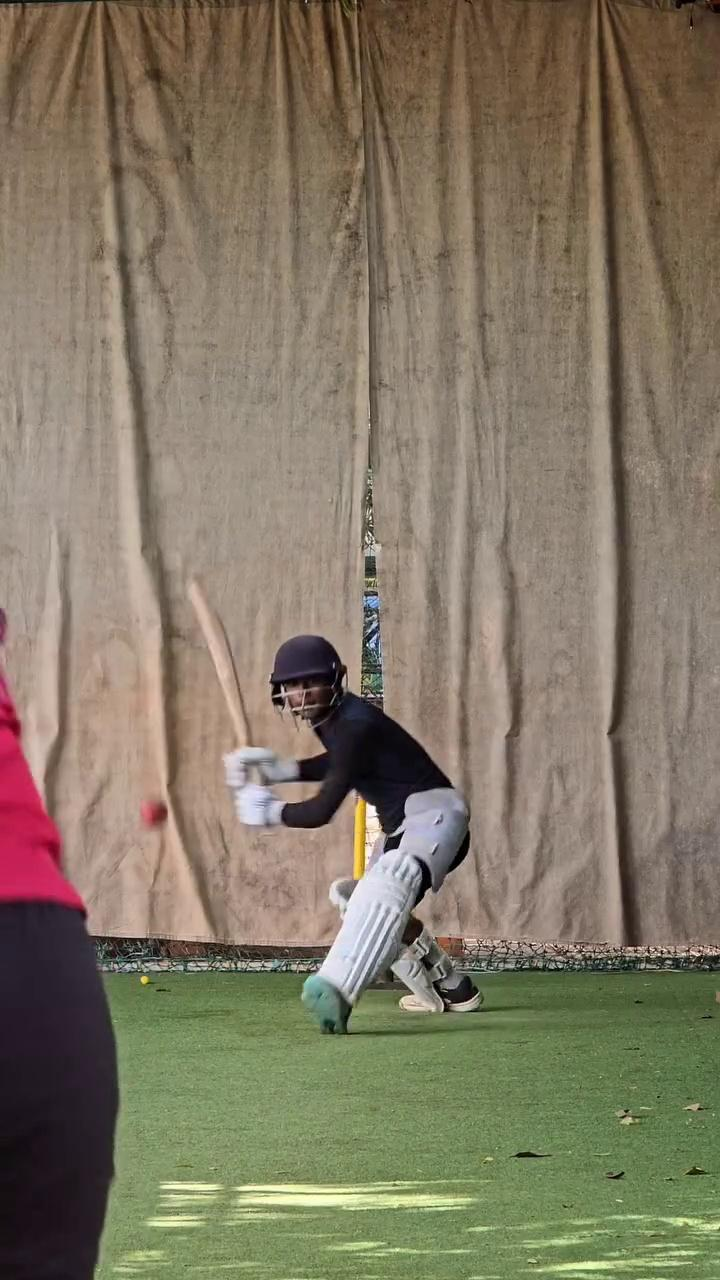bat: (180, 567, 258, 752)
